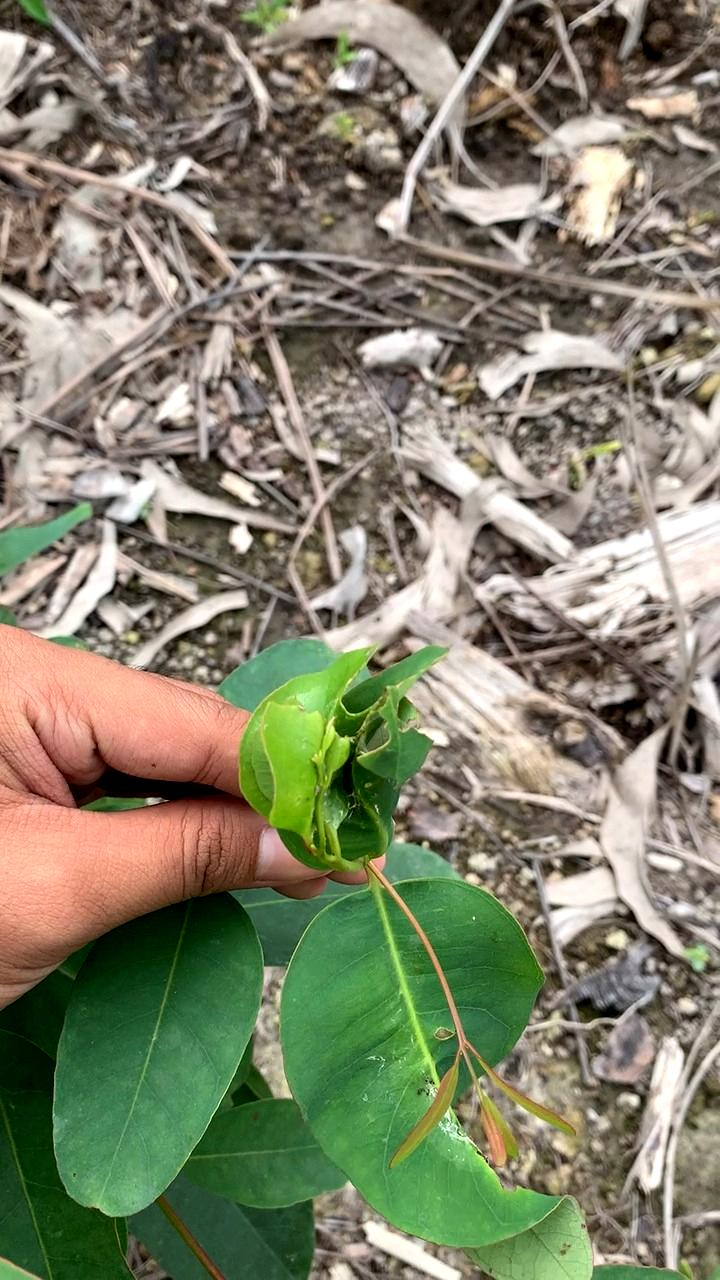Leaf Roller - Leaf: (230, 646, 489, 873)
